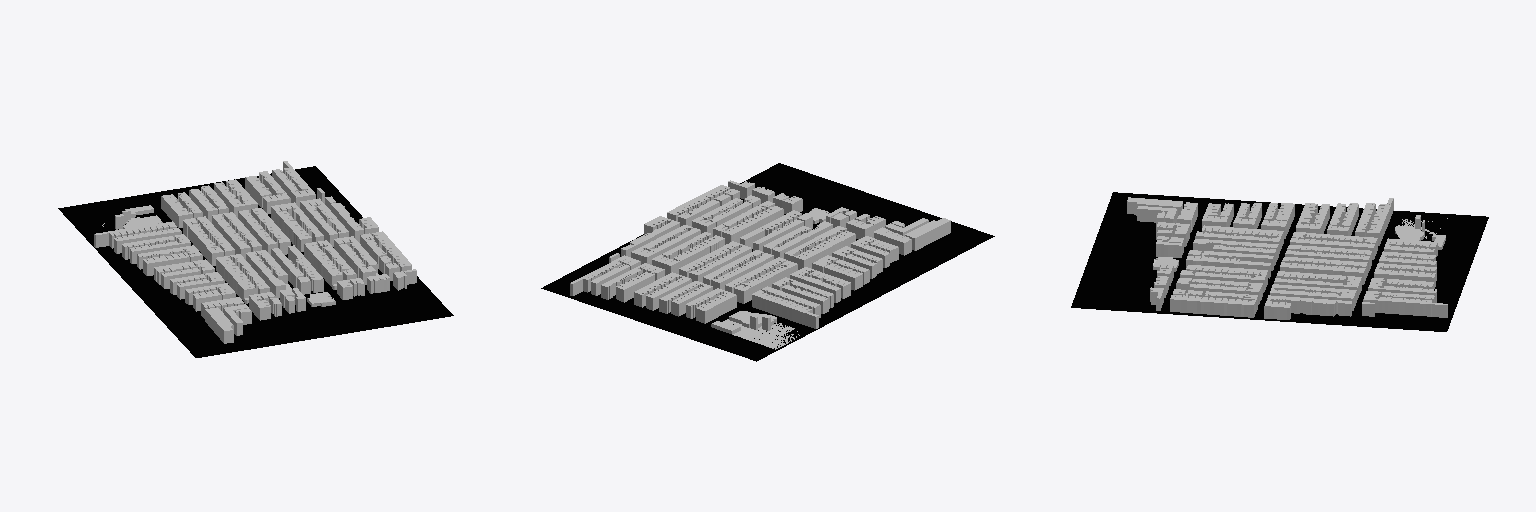
Rendered from philly2.obj.
3 views of the same model, side by side, from view 1: azimuth 30°, elevation 25°; view 2: azimuth 150°, elevation 25°; view 3: azimuth 270°, elevation 25° (orthographic).
Parts seen in each view (by area): view 1: Areas, Plane, Areas.002; view 2: Areas, Plane, Areas.002; view 3: Areas, Plane, Areas.002.
Boxes of the visible parts, x1,y1,x2,y2 form: Areas: [94, 161, 416, 335]; Plane: [58, 166, 453, 357]; Areas.002: [205, 307, 233, 343]; Areas: [570, 180, 928, 349]; Plane: [541, 163, 994, 361]; Areas.002: [905, 218, 950, 250]; Areas: [1137, 198, 1447, 319]; Plane: [1071, 192, 1488, 331]; Areas.002: [1127, 197, 1182, 215].
Size of the model in its own units: 479 by 20 by 604.